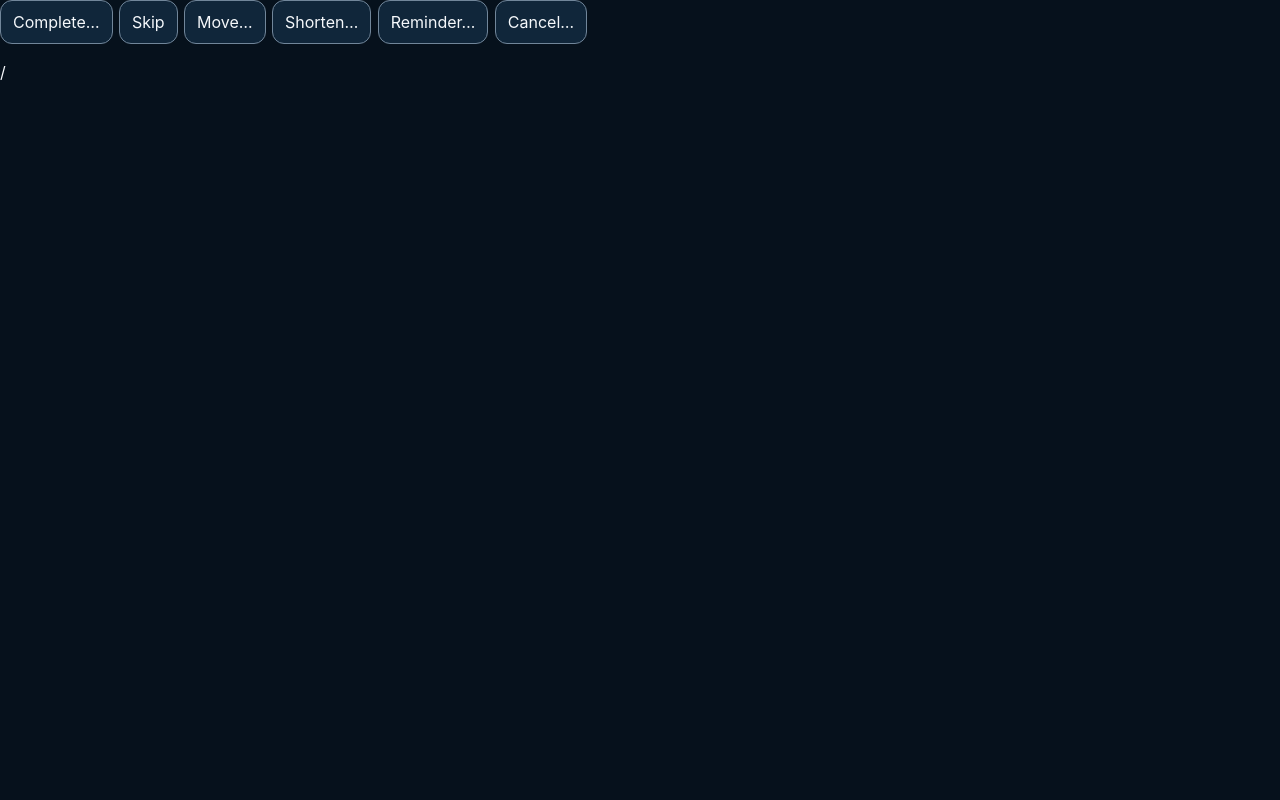
Test case: block reminder dialog › keeps the dialog open with the reason when the command is refused
Click the button named "Reminder… Write report": (433, 22) [378,0,488,44]
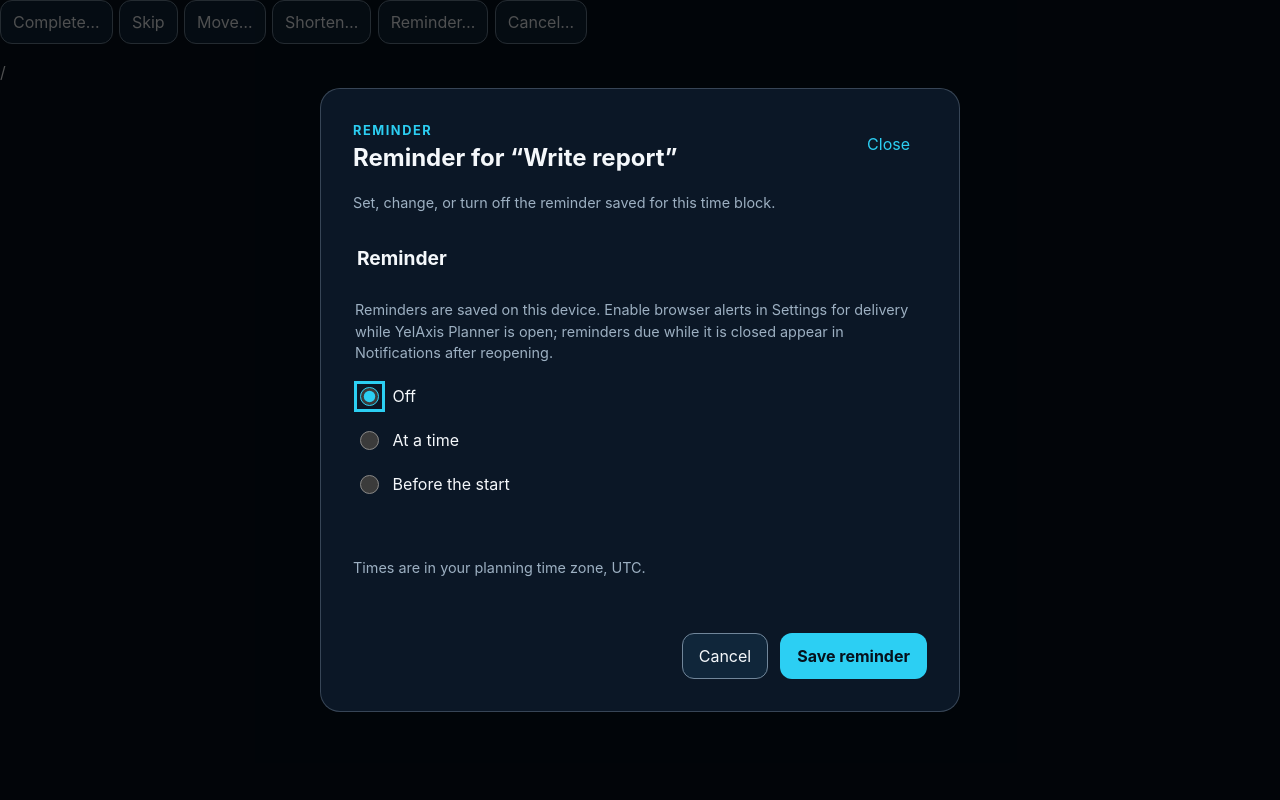
Result: the element "Reminder" is shown at [355,244,925,510]
Click the radio button labelled "Before the start": (370, 485) [360,475,379,494]
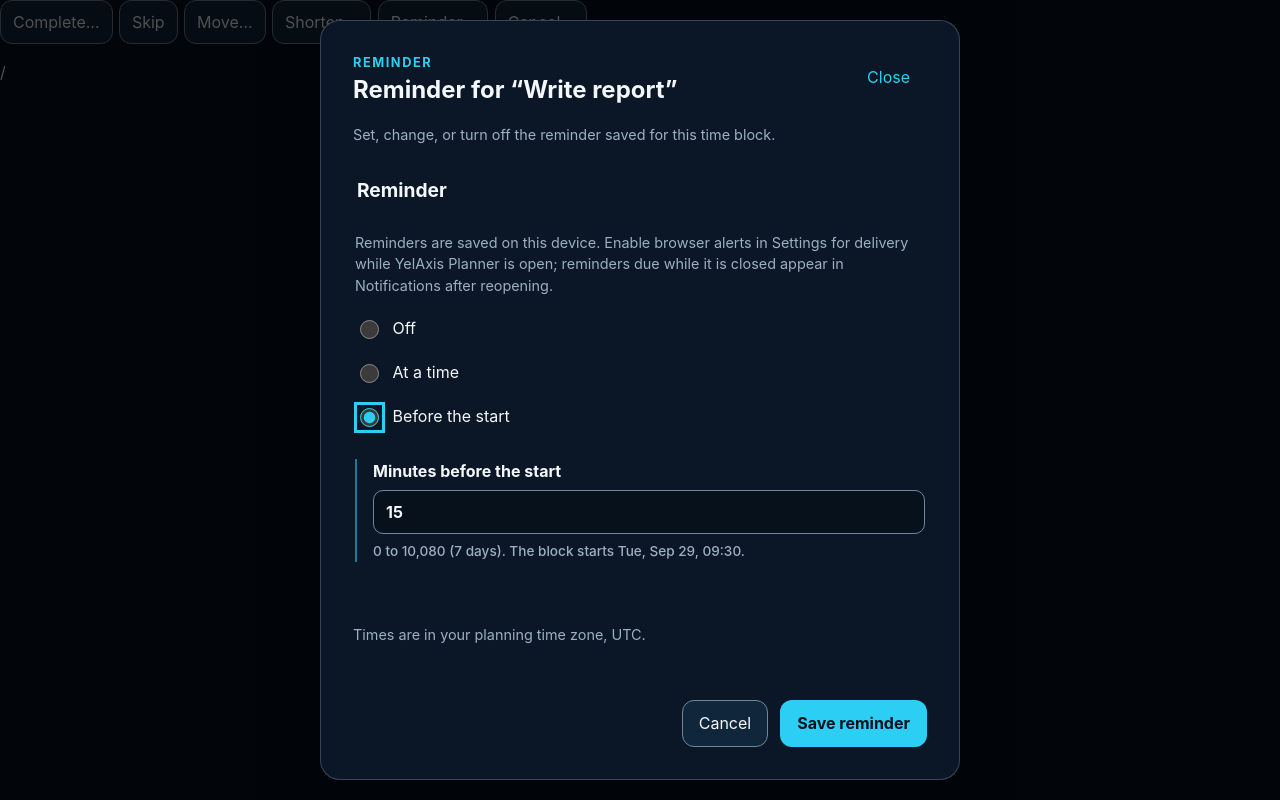
Click the button "Save reminder": (854, 723) [780,700,927,747]
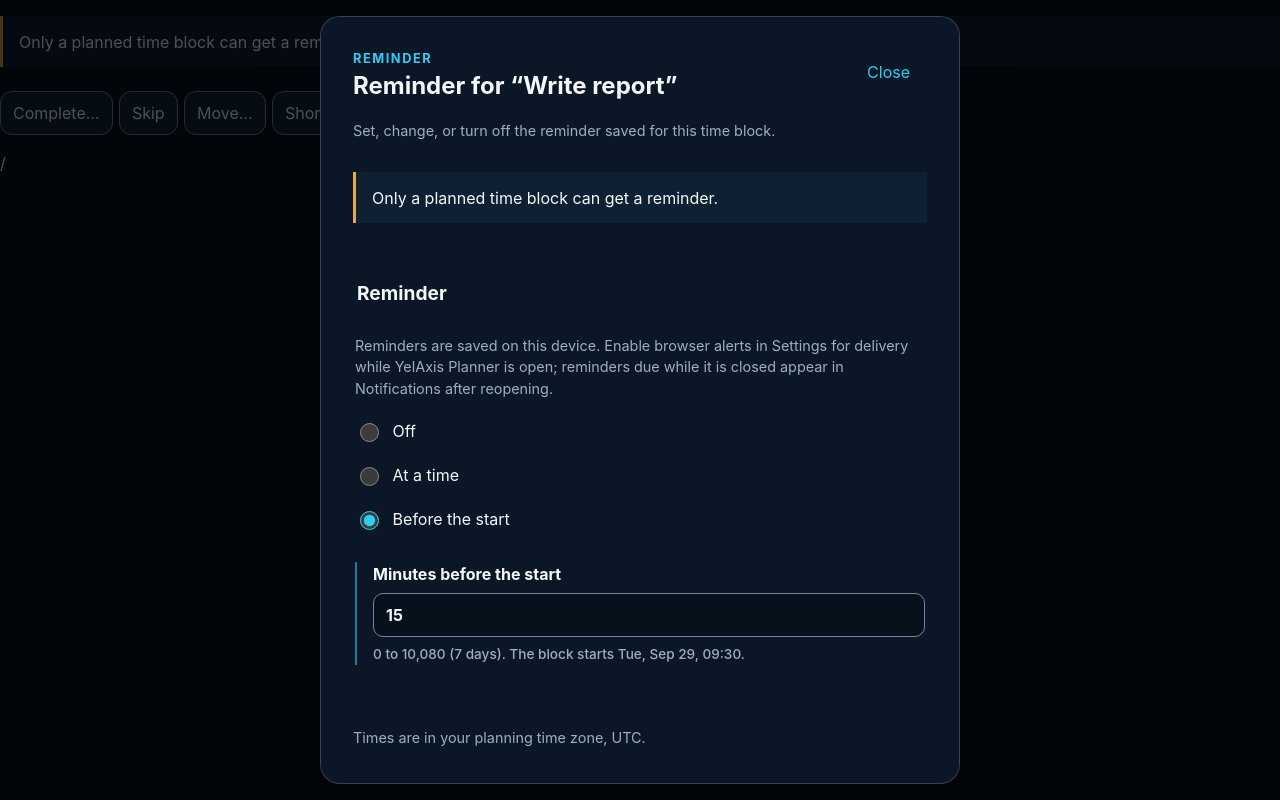
Result: the dialog "Reminder for “Write report”" is shown at [320,16,960,784]
Result: the message "Only a planned time block can get a reminder." below "Reminder for “Write report”" is shown at [372,188,718,208]
